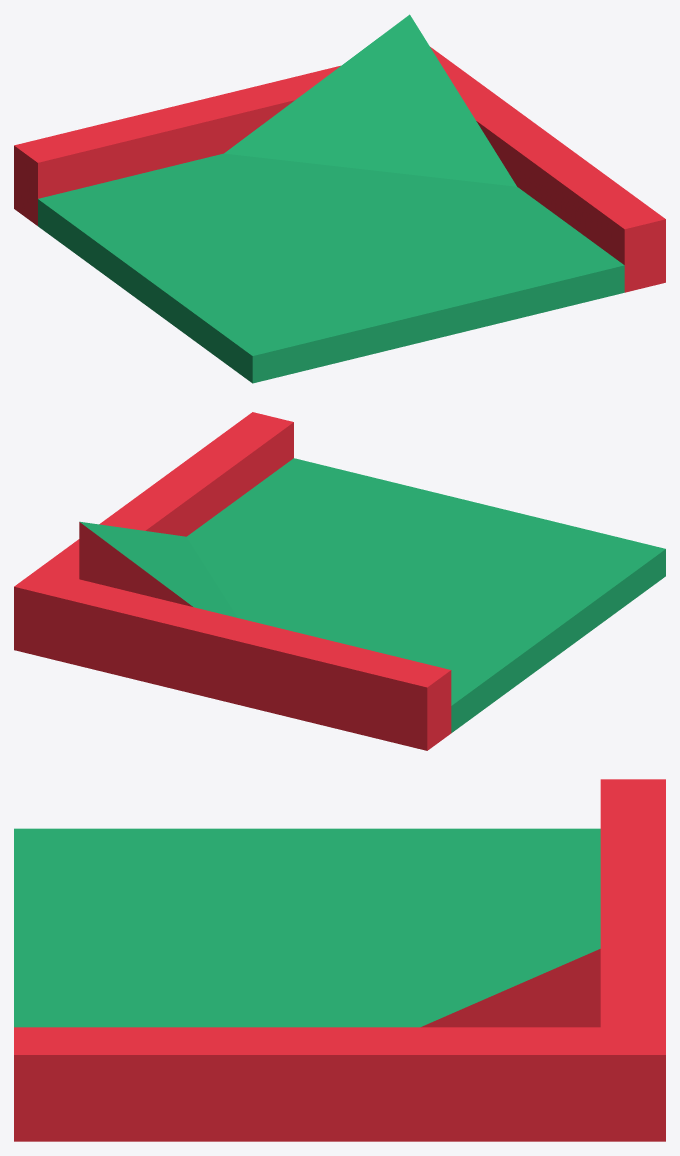
File: hillCorner.obj
3 renders of one model, top to bottom at view 1: azimuth 30°, elevation 25°; view 2: azimuth 150°, elevation 25°; view 3: azimuth 270°, elevation 25°, orthographic. The views are drawn at different scales.
Visible parts, largest first — view 1: hillCorner; view 2: hillCorner; view 3: hillCorner.
Part boxes in pixels (bbox=[...]): hillCorner: bbox=[14, 14, 665, 383]; hillCorner: bbox=[14, 412, 665, 750]; hillCorner: bbox=[14, 779, 665, 1141].
Bounding box in the file's own units: 0.9999 × 0.28 × 0.9999.
